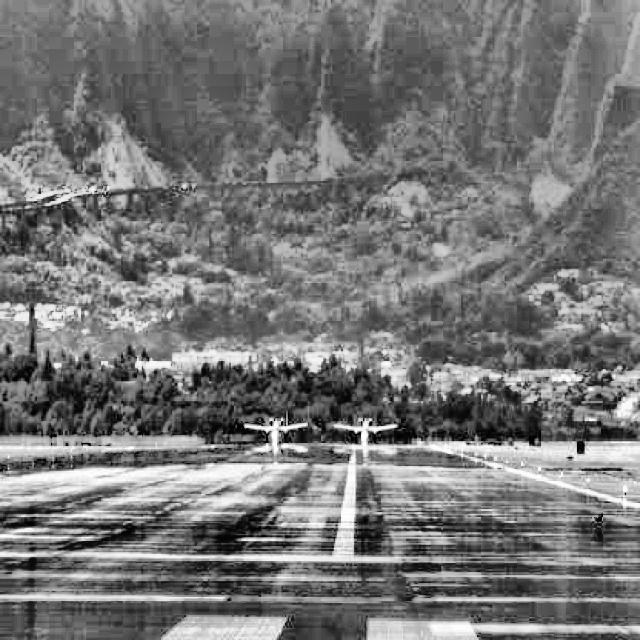A10: (333, 414, 398, 444), (244, 415, 308, 442)
